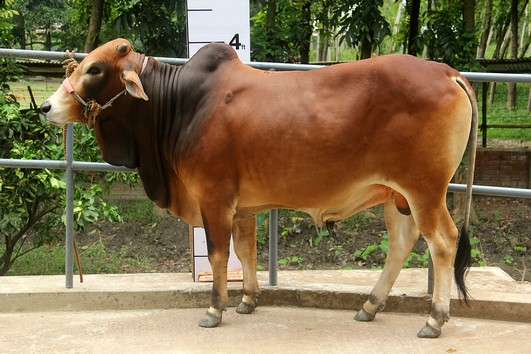cow: (31, 33, 483, 337)
